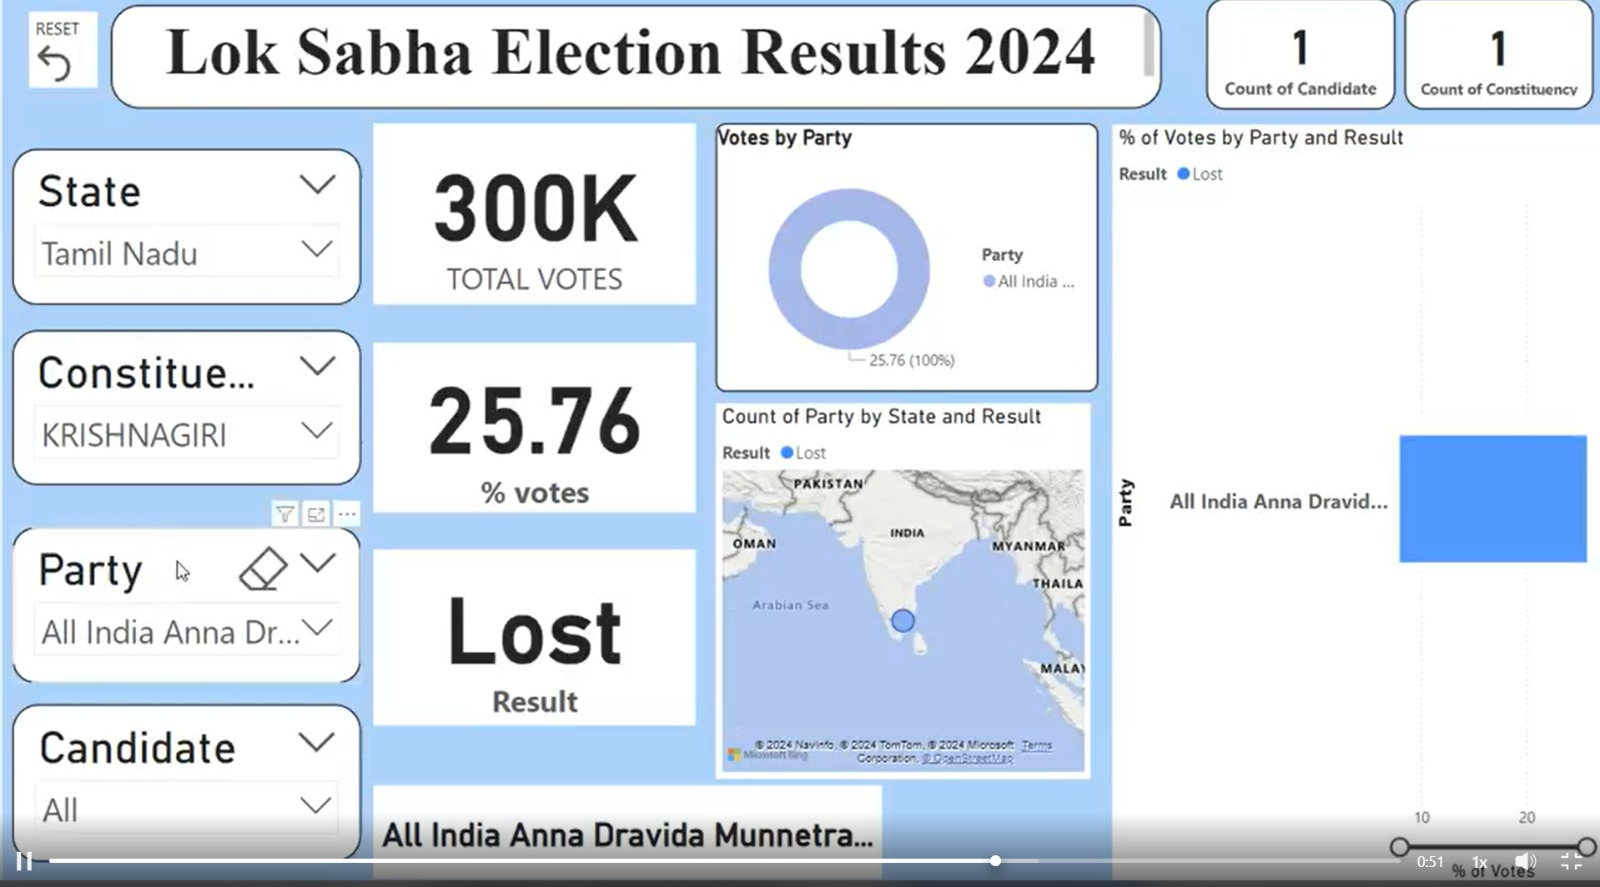

This screenshot's page, from the dashboard's own definition file:
{"tool":"powerbi","page":{"name":"Page 1","canvas":[1280,720],"ordinal":0},"visuals":[{"type":"slicer","fields":{"Values":["Sheet1.State"]},"box":[8,118.8,279.3,125],"z":0},{"type":"slicer","fields":{"Values":["Sheet1.Candidate"]},"box":[8,573.7,279.3,125.9],"z":1000},{"type":"slicer","fields":{"Values":["Sheet1.Party"]},"box":[8,420.3,279.3,125],"z":2000},{"type":"slicer","fields":{"Values":["Sheet1.Constituency"]},"box":[8,274,279.3,124.1],"z":3000},{"type":"card","fields":{"Values":["Sum(Sheet1.Total Votes)"]},"box":[297.3,108.2,258.2,145.5],"z":4000},{"type":"card","fields":{"Values":["Sum(Sheet1.% of Votes)"]},"box":[297.3,283.6,258.2,136.4],"z":5000},{"type":"card","fields":{"Values":["Min(Sheet1.Result)"]},"box":[297.3,450,258.2,140.9],"z":6000},{"type":"barChart","fields":{"Category":["Sheet1.Party"],"Y":["Sum(Sheet1.% of Votes)"],"Series":["Sheet1.Result"]},"box":[881.8,99.1,391.8,610.9],"z":7000},{"type":"textbox","box":[86.9,13.3,840.6,83.3],"z":8000},{"type":"card","fields":{"Values":["Min(Sheet1.Party)"]},"box":[297.3,634.5,406.4,75.5],"z":9000},{"type":"textbox","box":[21,19,55,61],"z":10000},{"type":"actionButton","box":[21,40,55,40],"z":11000},{"type":"donutChart","title":"Votes by Party","fields":{"Y":["Sum(Sheet1.% of Votes)"],"Category":["Sheet1.Party"]},"box":[567.3,108.2,314.5,214.5],"z":12000},{"type":"card","fields":{"Values":["Count(Sheet1.Constituency)"]},"box":[1122.6,8,150.7,88.7],"z":13000},{"type":"card","fields":{"Values":["CountNonNull(Sheet1.Candidate)"]},"box":[963.8,8,150.7,88.7],"z":14000},{"type":"map","fields":{"Series":["Sheet1.Result"],"Size":["CountNonNull(Sheet1.Party)"],"Category":["Sheet1.State"]},"box":[581.8,332.7,300,300],"z":15000}]}

Visuals, with their boxes on the page's 1280x720 design canvas (x1, y1, x2, y2). These are canvas units, not pixel positions in the 1600x887 screenshot, which may show the page scaled, cropped or inside an application window:
slicer - Sheet1.State: box(8, 119, 287, 244)
slicer - Sheet1.Candidate: box(8, 574, 287, 700)
slicer - Sheet1.Party: box(8, 420, 287, 545)
slicer - Sheet1.Constituency: box(8, 274, 287, 398)
card - Sum(Sheet1.Total Votes): box(297, 108, 556, 254)
card - Sum(Sheet1.% of Votes): box(297, 284, 556, 420)
card - Min(Sheet1.Result): box(297, 450, 556, 591)
barChart - Sheet1.Party x Sum(Sheet1.% of Votes): box(882, 99, 1274, 710)
textbox: box(87, 13, 928, 97)
card - Min(Sheet1.Party): box(297, 634, 704, 710)
textbox: box(21, 19, 76, 80)
actionButton: box(21, 40, 76, 80)
"Votes by Party" donutChart: box(567, 108, 882, 323)
card - Count(Sheet1.Constituency): box(1123, 8, 1273, 97)
card - CountNonNull(Sheet1.Candidate): box(964, 8, 1114, 97)
map - Sheet1.Result x CountNonNull(Sheet1.Party): box(582, 333, 882, 633)
